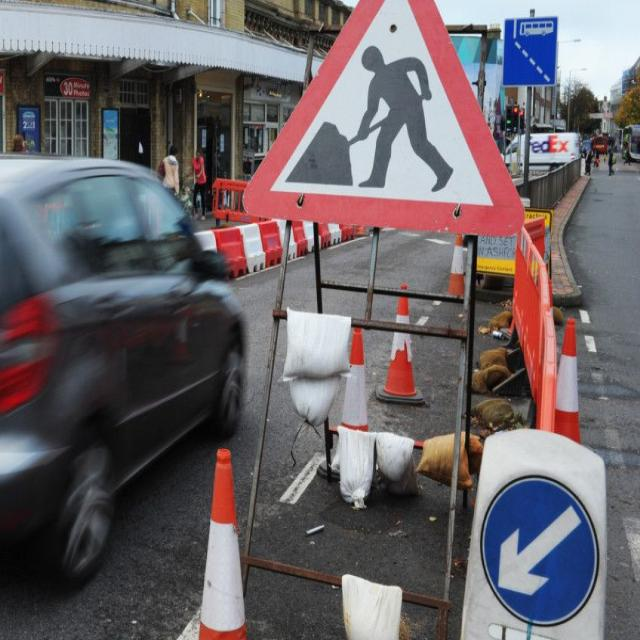light_vehicle: (3, 138, 260, 570)
